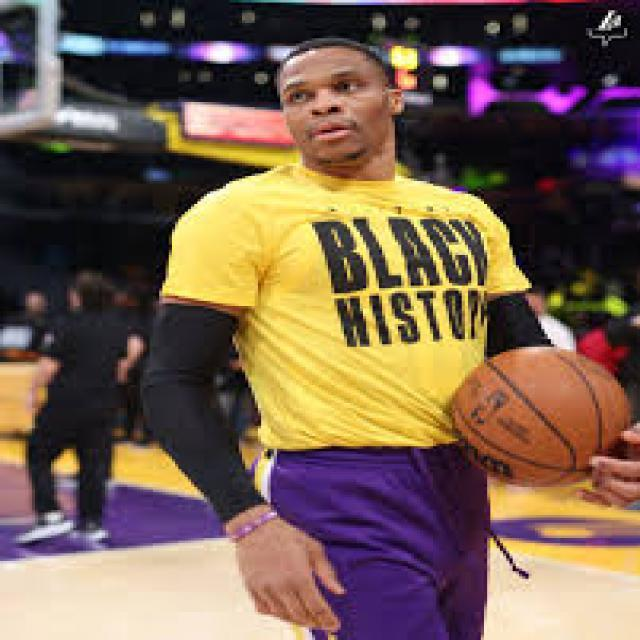rim: (458, 344, 630, 487)
